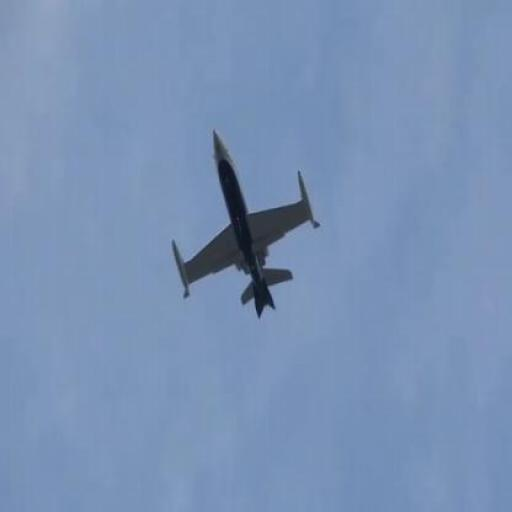aircraft: (167, 129, 324, 320)
